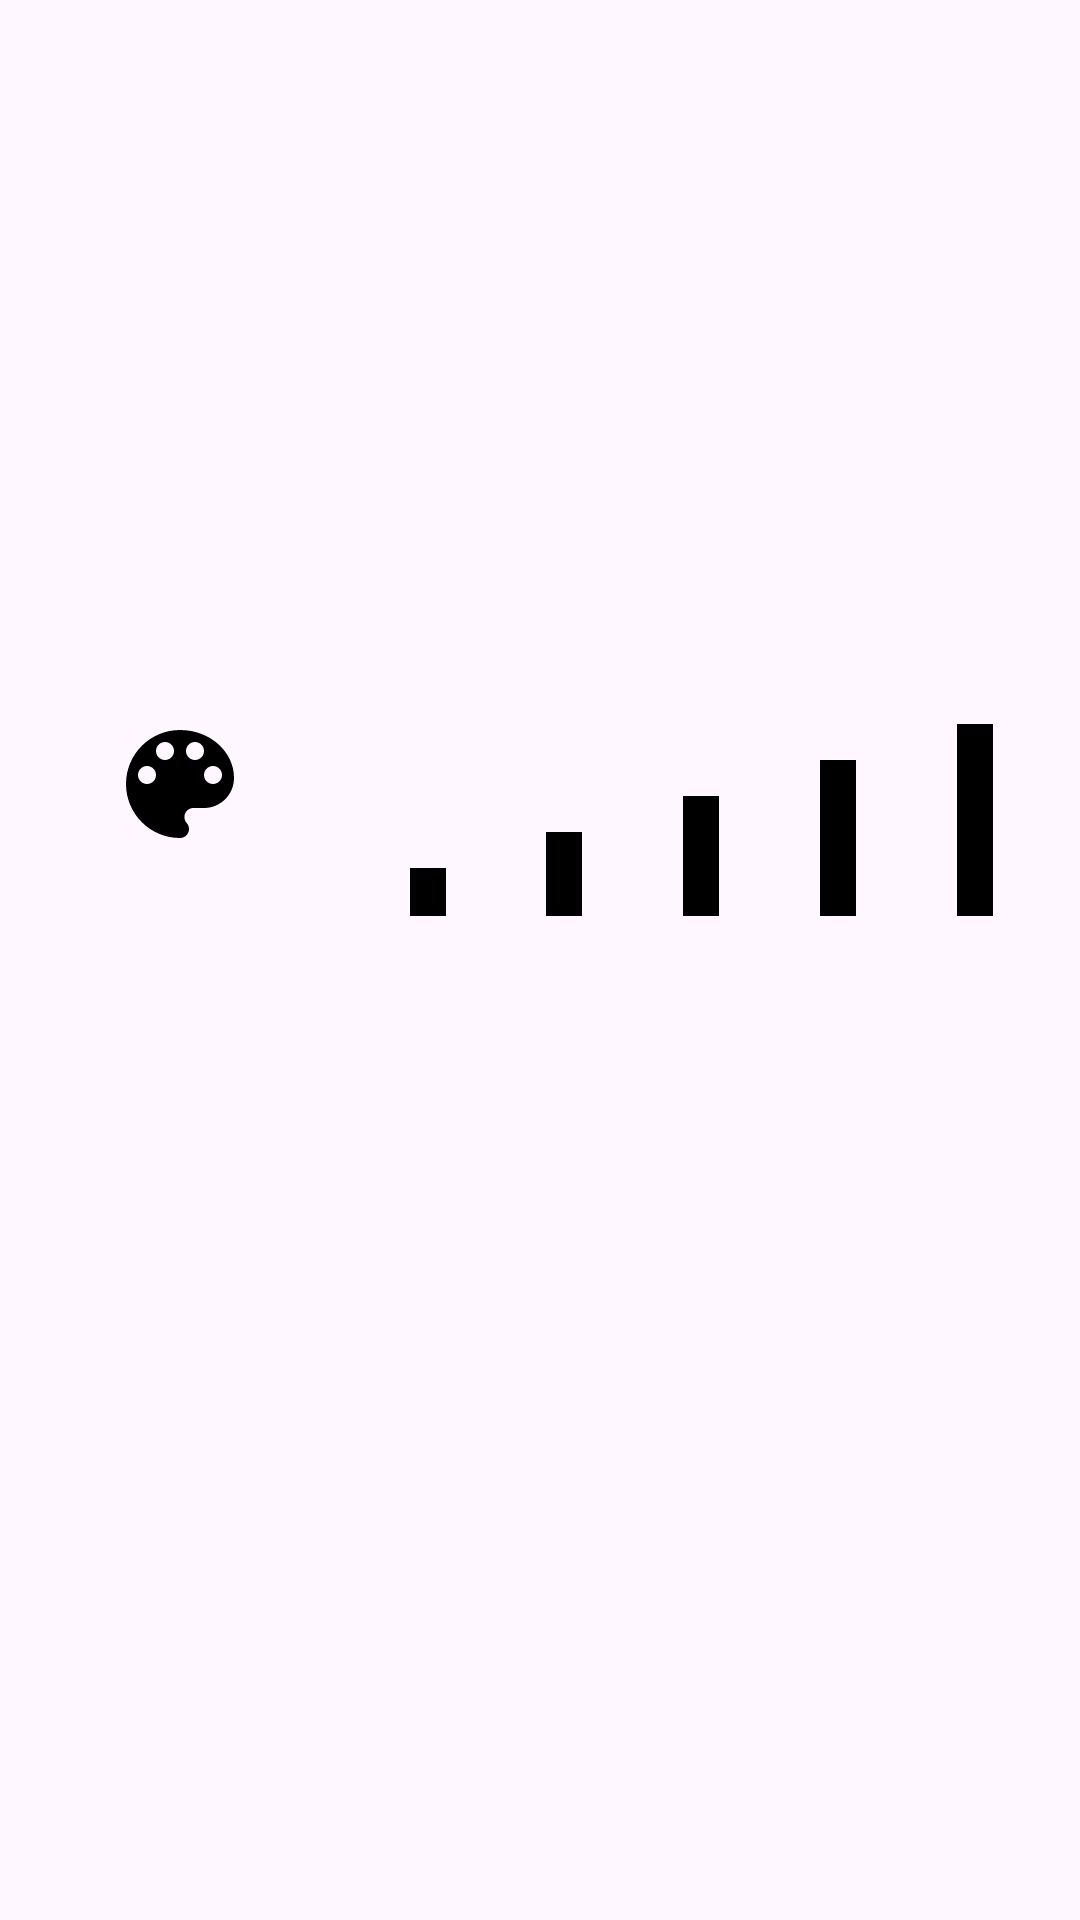

Named icons in this screenshot (1080px x 1920px) and their bounding boxes, (x1,y1,x2,y2):
Light color: (126,730,234,838)
